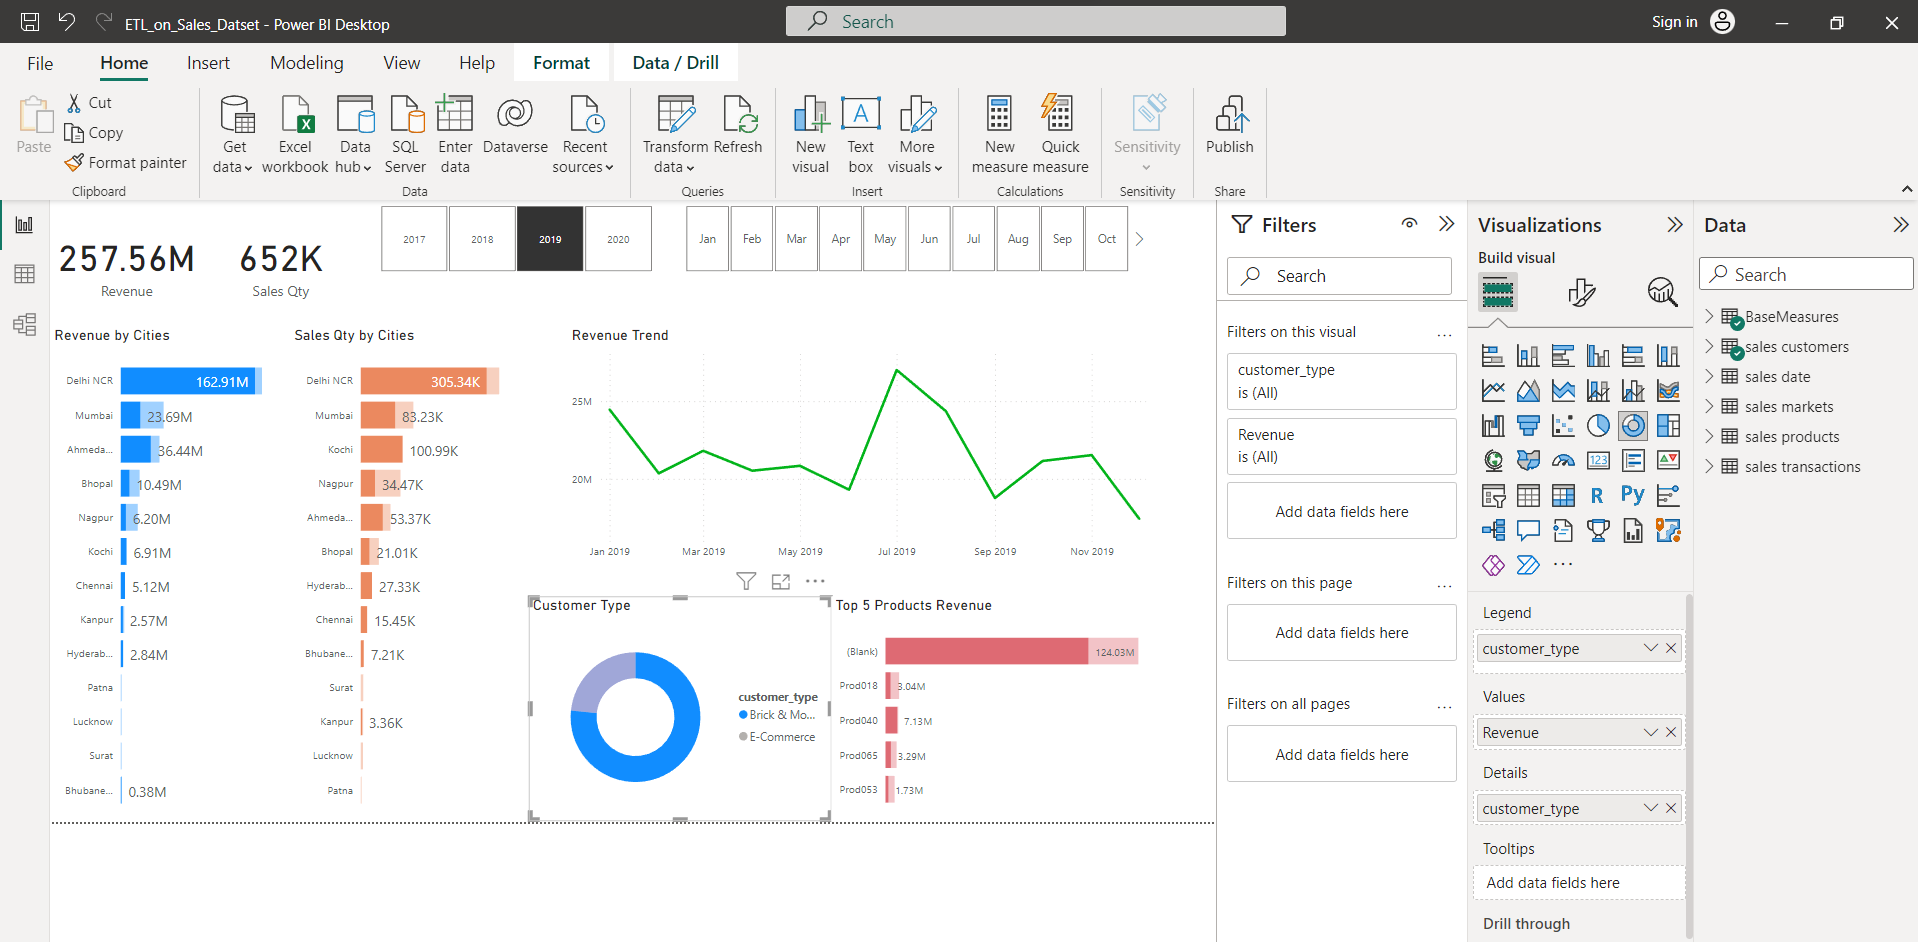

The page's visual inventory and layout, read from the dashboard file:
{"tool":"powerbi","page":{"name":"Page 1","canvas":[1350,720],"ordinal":0},"visuals":[{"type":"card","fields":{"Values":["BaseMeasures.Revenue"]},"box":[0,0,177.5,146.2],"z":0},{"type":"card","fields":{"Values":["BaseMeasures.Sales Qty"]},"box":[177.5,0,178.8,146.2],"z":1000},{"type":"barChart","title":"Revenue by Cities","fields":{"Y":["BaseMeasures.Revenue"],"Category":["sales markets.markets_name"]},"box":[0,146.2,277.5,573.8],"z":2000},{"type":"barChart","title":"Sales Qty by Cities","fields":{"Y":["BaseMeasures.Sales Qty"],"Category":["sales markets.markets_name"]},"box":[277.5,146.2,277.5,573.8],"z":3000},{"type":"slicer","fields":{"Values":["sales date.year"]},"box":[356.9,0,363,89.5],"z":4000},{"type":"slicer","fields":{"Values":["sales date.cy_date"]},"box":[710.1,0,561.7,89.5],"z":5000},{"type":"donutChart","title":"Customer Type","fields":{"Category":["sales customers.customer_type"],"Y":["BaseMeasures.Revenue"],"Series":["sales customers.customer_type"]},"box":[554.3,458.7,349.5,261.2],"z":6000},{"type":"barChart","title":"Top 5 Products Revenue","fields":{"Y":["BaseMeasures.Revenue"],"Category":["sales products.product_code"]},"box":[903.8,458.7,446.4,261.2],"z":7000},{"type":"lineChart","title":"Revenue Trend","fields":{"Y":["BaseMeasures.Revenue"],"Category":["sales date.cy_date"]},"box":[598.5,145.9,692.9,278.4],"z":8000}]}

Visuals, with their boxes on the page's 1350x720 design canvas (x1, y1, x2, y2). These are canvas units, not pixel positions in the 1918x942 screenshot, which may show the page scaled, cropped or inside an application window:
card - BaseMeasures.Revenue: Rect(0, 0, 178, 146)
card - BaseMeasures.Sales Qty: Rect(178, 0, 356, 146)
"Revenue by Cities" barChart: Rect(0, 146, 278, 720)
"Sales Qty by Cities" barChart: Rect(278, 146, 555, 720)
slicer - sales date.year: Rect(357, 0, 720, 90)
slicer - sales date.cy_date: Rect(710, 0, 1272, 90)
"Customer Type" donutChart: Rect(554, 459, 904, 720)
"Top 5 Products Revenue" barChart: Rect(904, 459, 1350, 720)
"Revenue Trend" lineChart: Rect(598, 146, 1291, 424)
